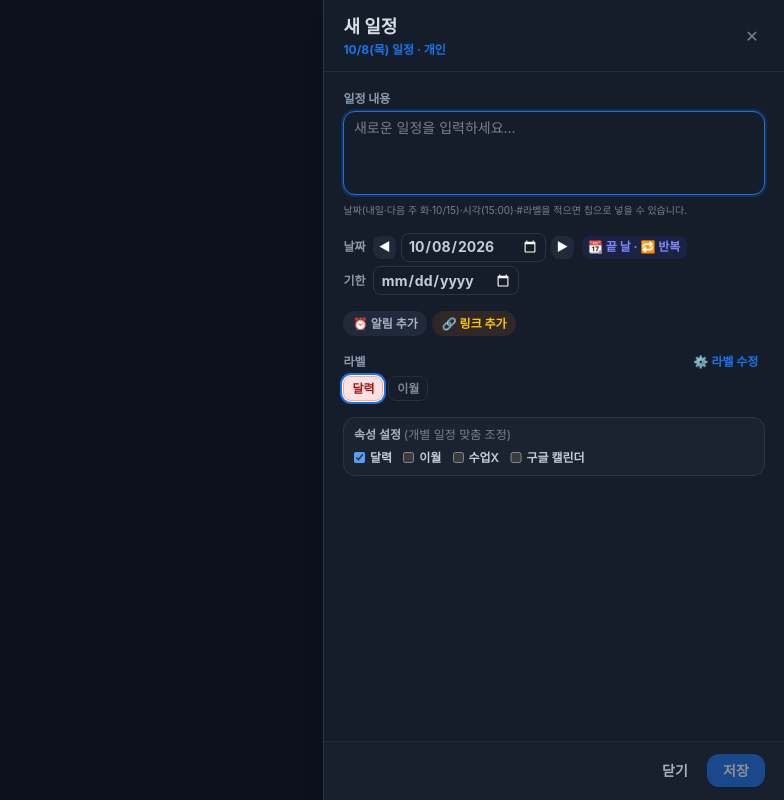
Test: 새 일정 › 맨 위 라벨을 골라 두고, 저장하면 그날 맨 뒤에 만들고 그 일정의 수정 칸이 된다
Expected: the button "저장" is disabled, [707,754,765,787]
Type "  학부모 상담 " into the text box with placeholder "새로운 일정을 입력하세요...". click: point(554, 153)
box: [343,111,765,195]
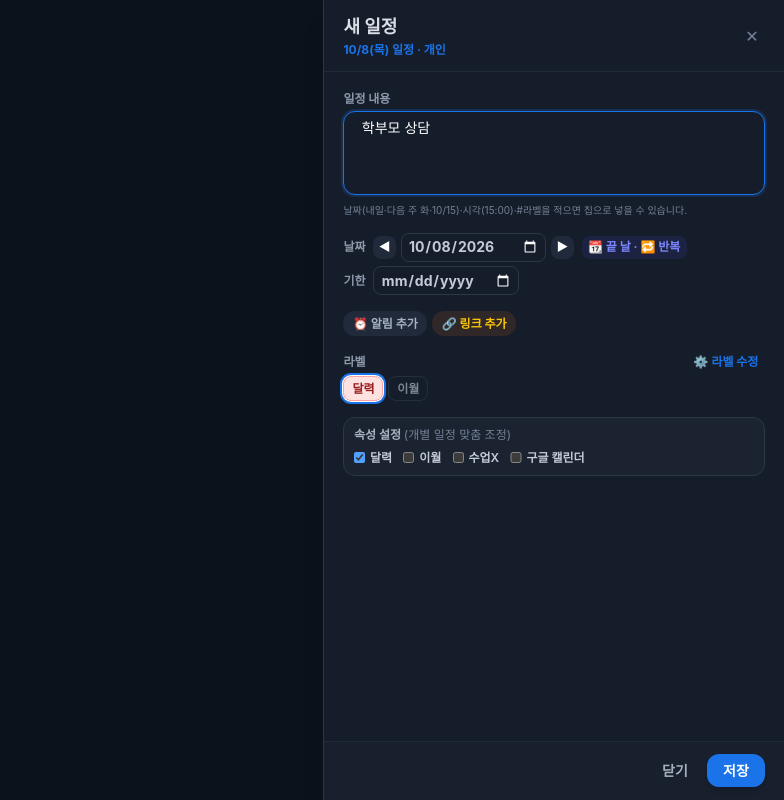
Click the button "저장". click: point(736, 771)
box: [707,754,765,787]
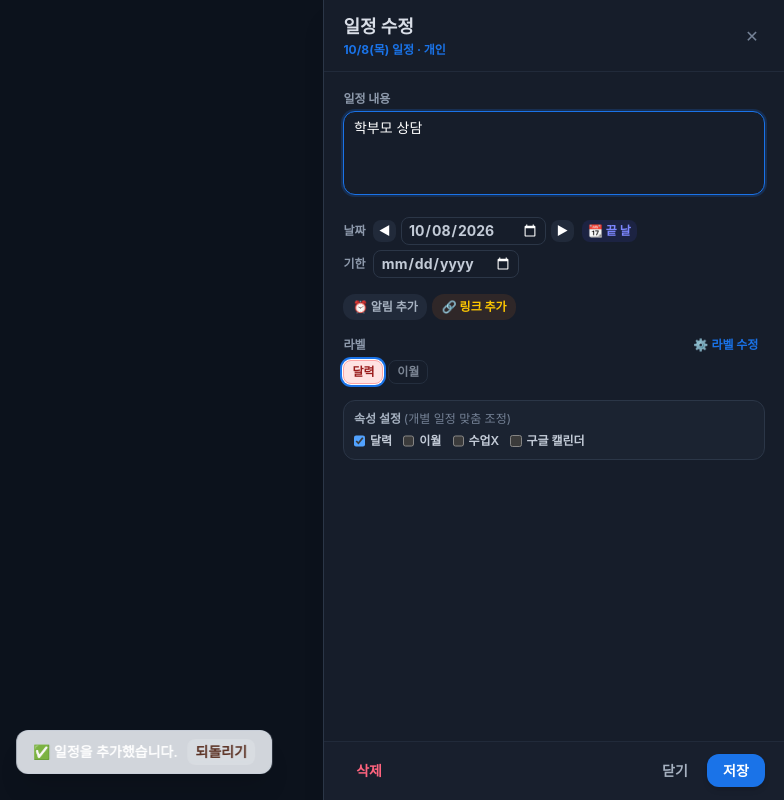
Now the text box holds "학부모 상담", box [343,111,765,195]
Now the message "✅ 일정을 추가했습니다. 되돌리기" is shown, box [16,730,272,774]
